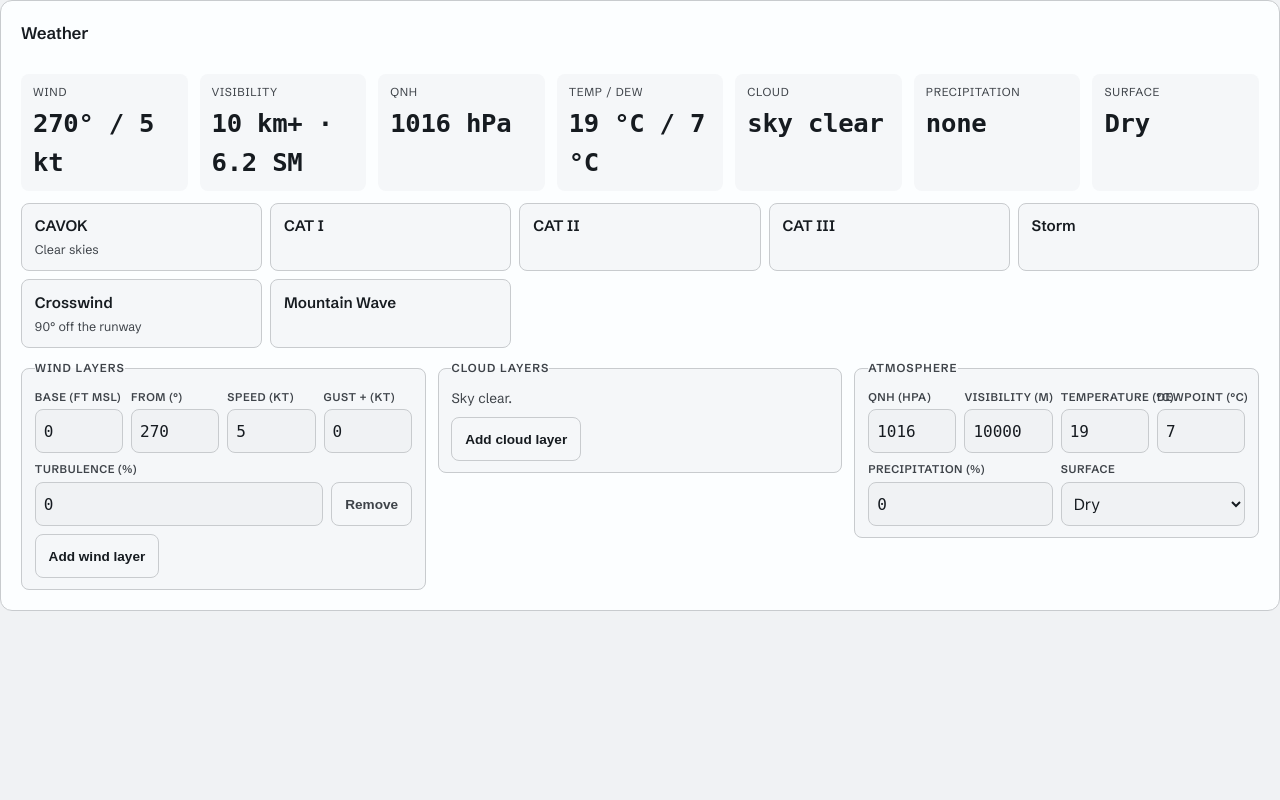
Scenario: WeatherPanel › sends preset + runway context on preview, never a client-resolved setup
Step 1. Click the button "CAVOK Clear skies" → (142, 237), box [21,203,262,271]
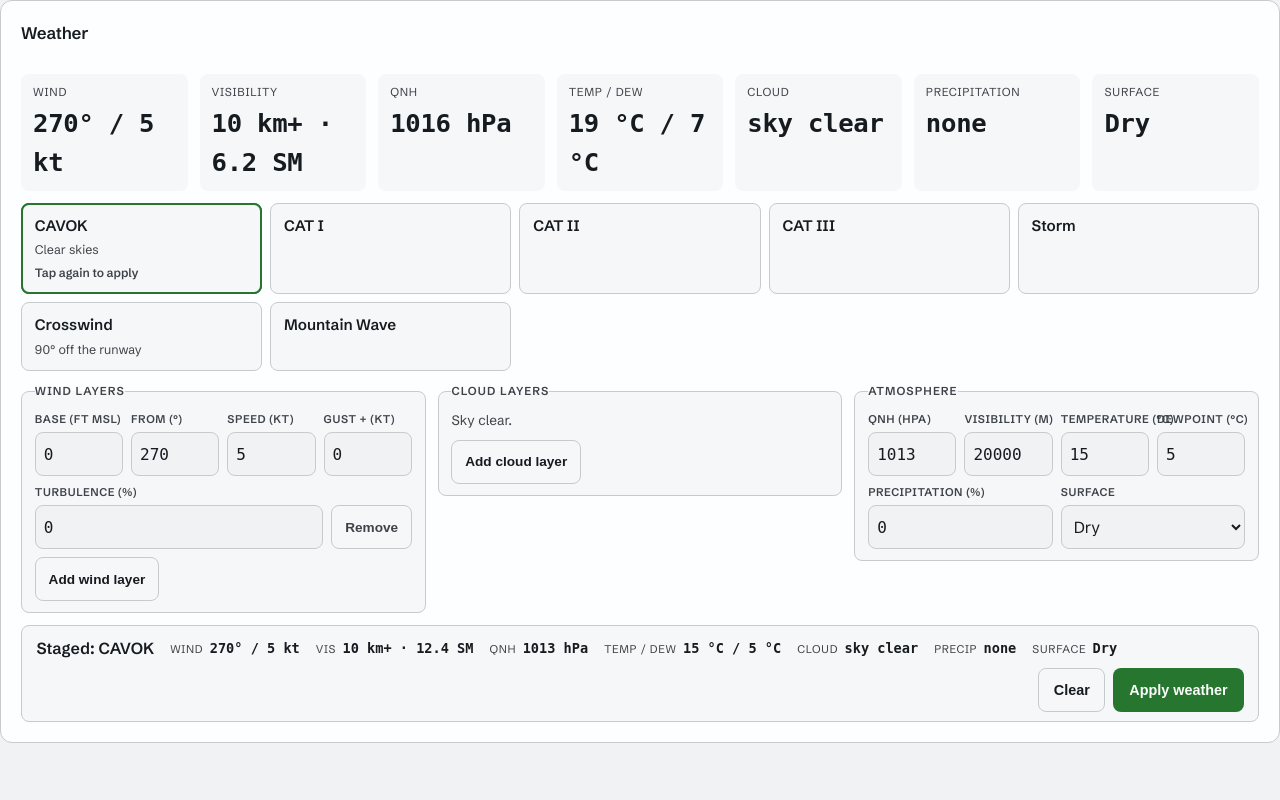
expect the text "Staged: CAVOK" is shown: met, box [36,636,154,660]
